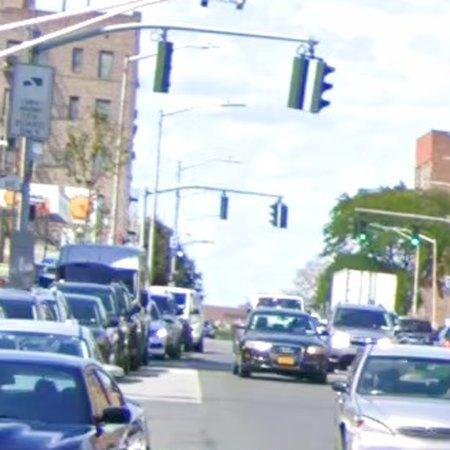traffic lights: (288, 54, 335, 112), (154, 29, 174, 93), (288, 54, 310, 108)
